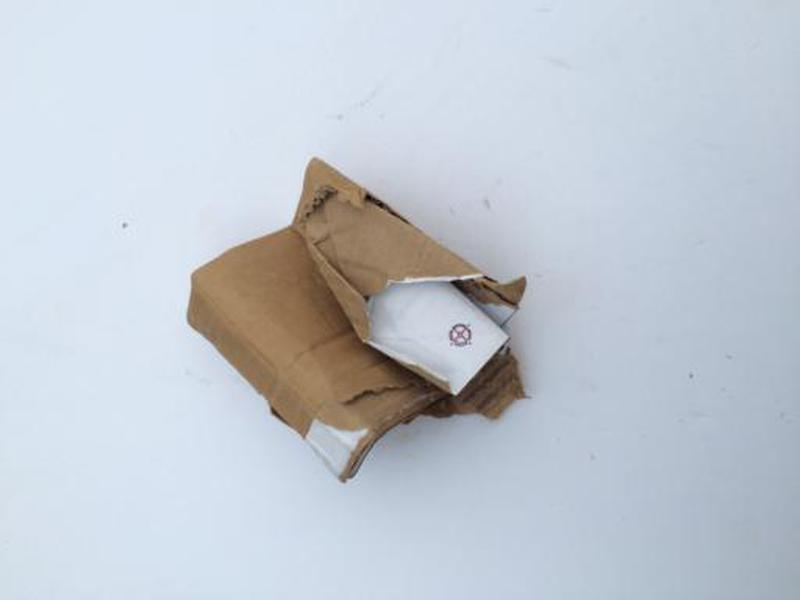cardboard: (179, 155, 538, 484)
